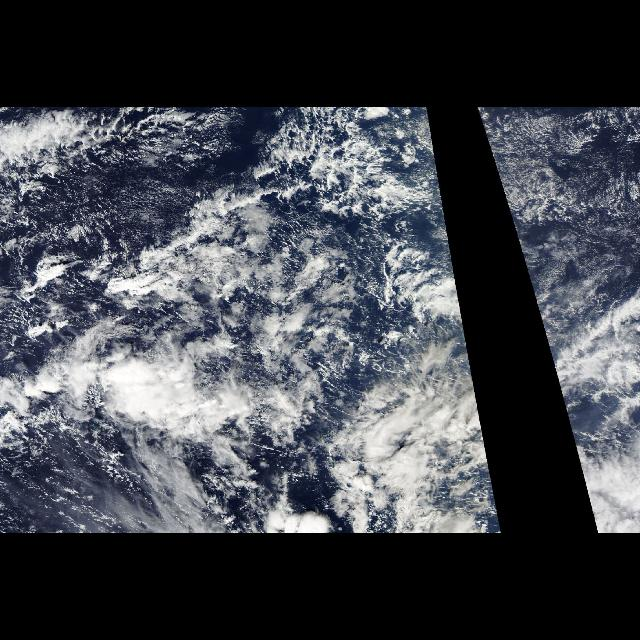Fish: (12, 107, 312, 477), (322, 285, 504, 533), (532, 285, 638, 533)
Gravel: (90, 113, 420, 225)
Sugar: (490, 112, 636, 296), (434, 154, 458, 296)
